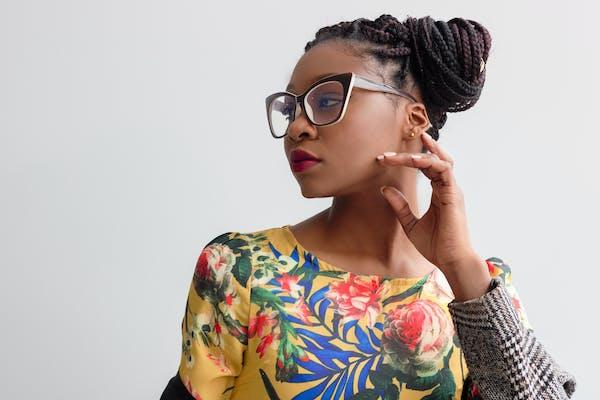eyeglasses: (251, 56, 356, 146)
